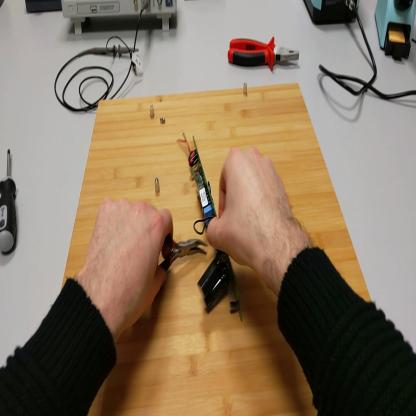hand: (82, 195, 175, 333), (208, 145, 293, 275)
high voltage board: (179, 129, 242, 323)
oscilloscope: (62, 1, 178, 38)
oscilloscope probe tip: (93, 44, 140, 59)
pliers: (229, 38, 302, 74), (161, 234, 209, 268)
screwdriver-: (2, 151, 21, 257)
socket: (27, 1, 63, 15)
welder base: (376, 1, 416, 67)
welder station: (305, 2, 360, 24)
working area: (66, 84, 372, 415)
